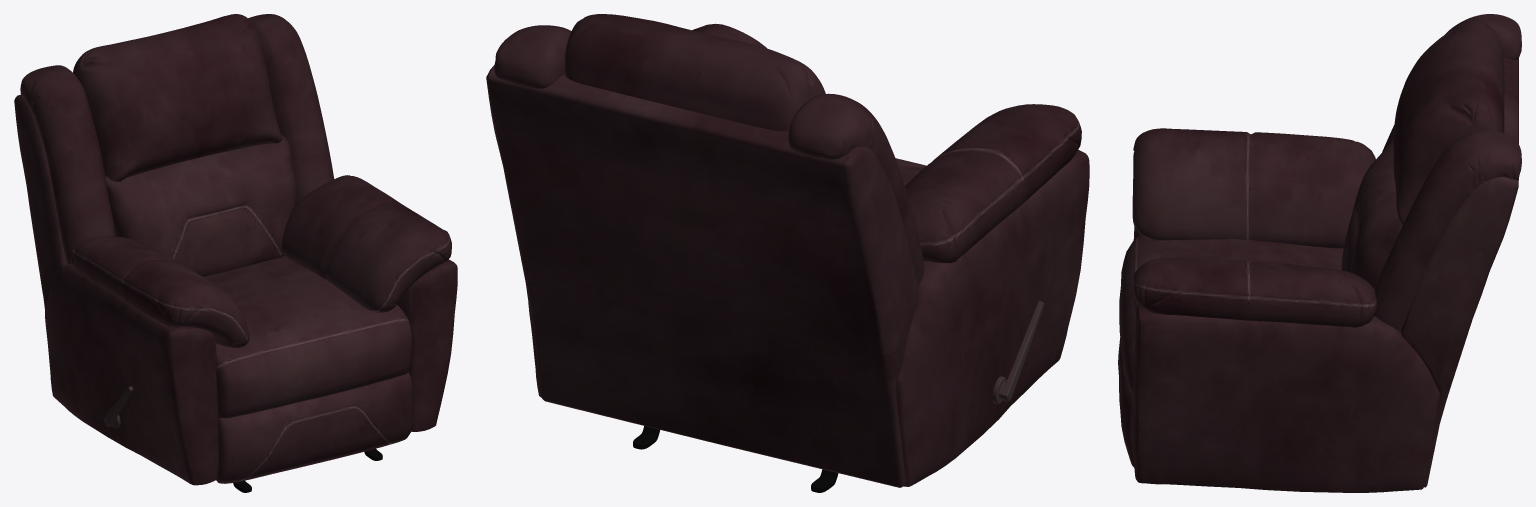
File: abo-B07QCMB9WC.glb
3 renders of one model, left to right at view 1: azimuth 30°, elevation 25°; view 2: azimuth 150°, elevation 25°; view 3: azimuth 270°, elevation 25°, orthographic. The views are drawn at different scales.
Bounding box in the file's own units: 0.99 × 1.09 × 1.04.
1 material, 1 textured.
